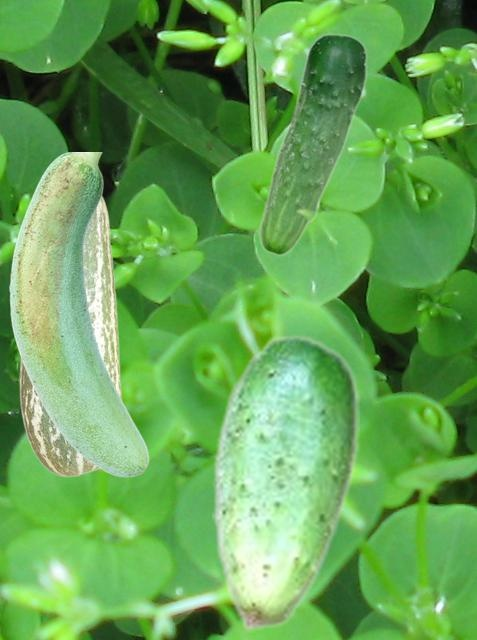cucumber: (9, 152, 148, 476), (212, 333, 358, 631), (19, 196, 121, 476), (258, 33, 367, 255)
